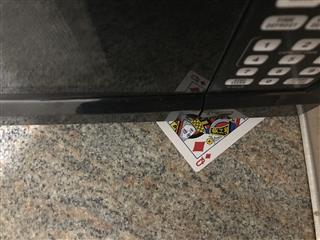QueenOfDiamonds: (156, 116, 267, 173)
